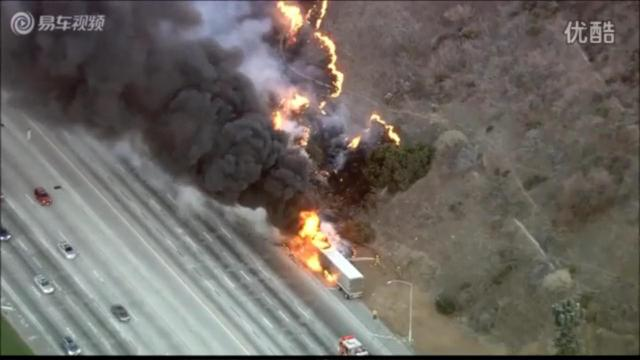fire: (276, 3, 302, 33), (282, 92, 310, 109), (300, 213, 318, 239), (332, 69, 346, 95), (326, 36, 336, 70), (307, 254, 321, 272), (385, 124, 399, 142), (313, 233, 327, 248), (348, 134, 362, 148), (273, 110, 281, 130), (368, 111, 382, 121), (319, 0, 327, 17), (316, 31, 328, 42)
